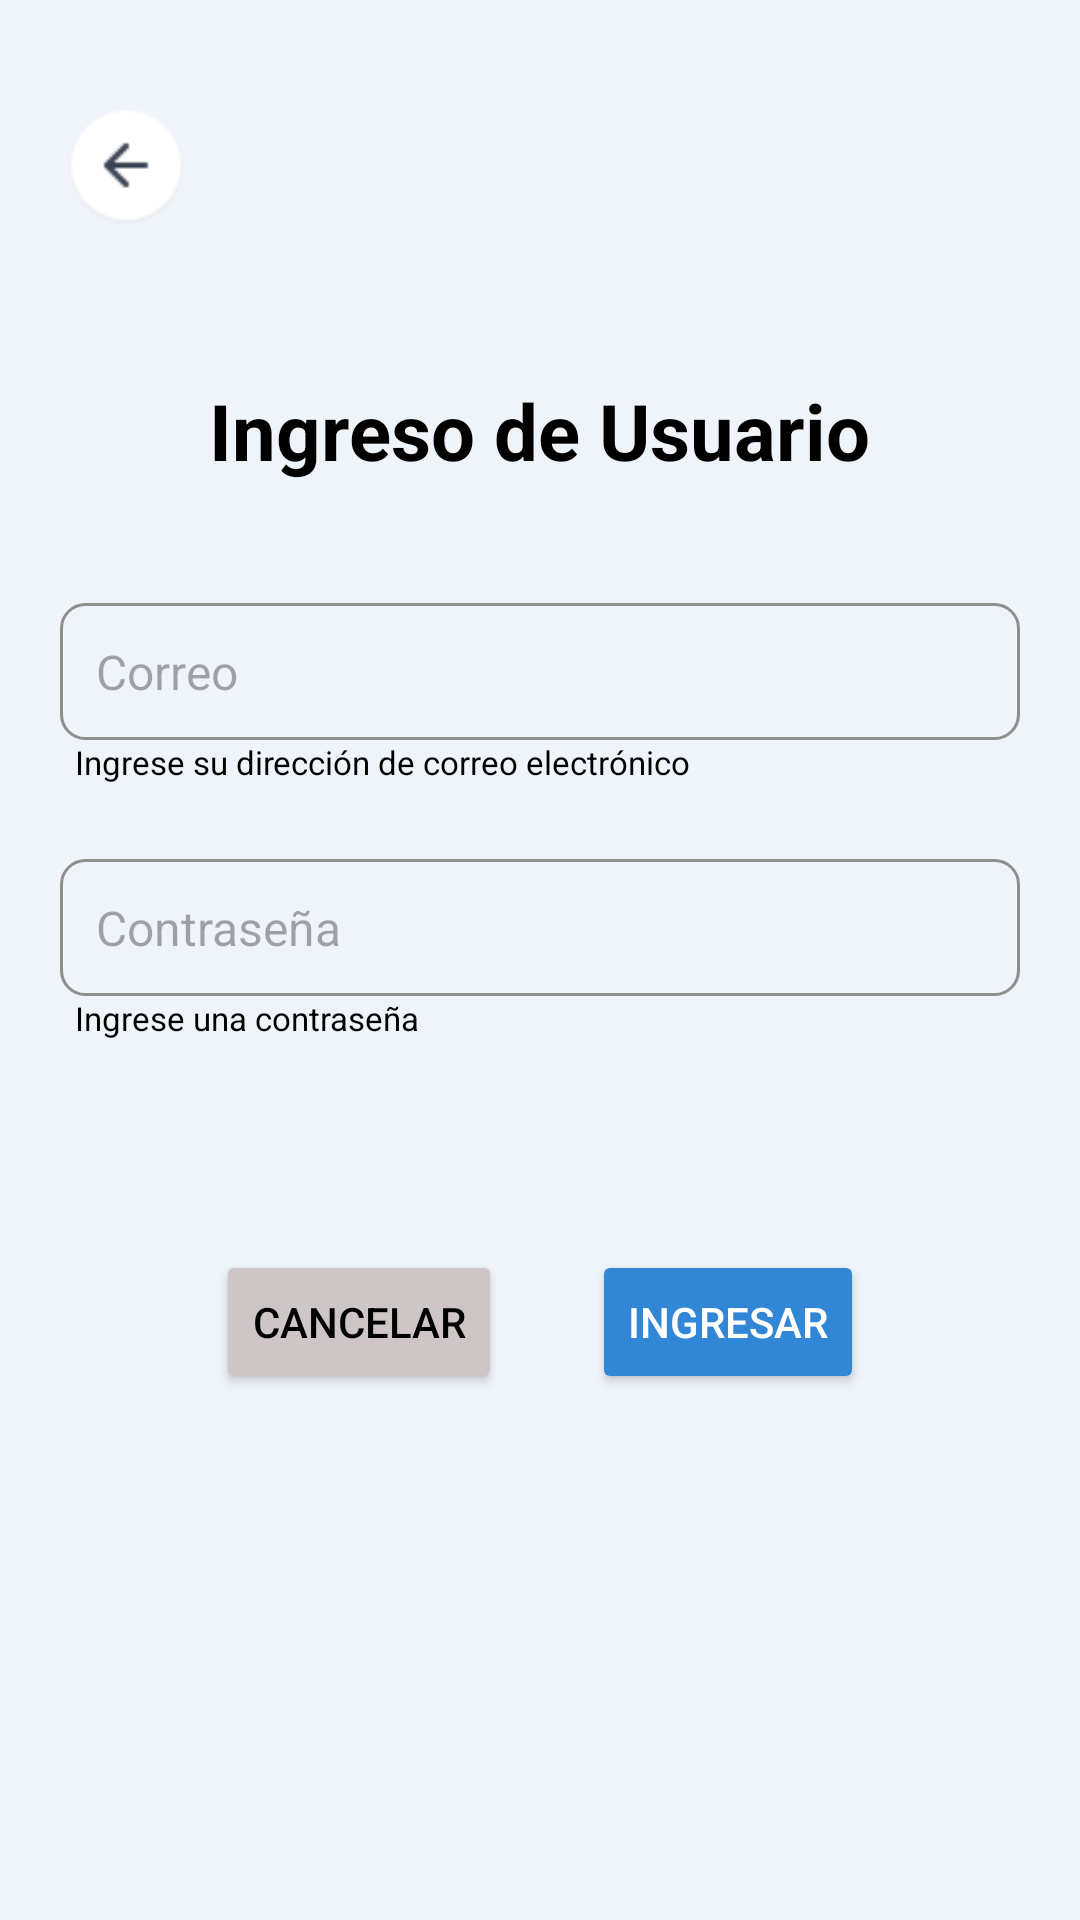

Icon bounding boxes for this 1080x1920 phone screenshot, format box=[x1, y1, x2, y2]:
back: box=[71, 111, 180, 219]
